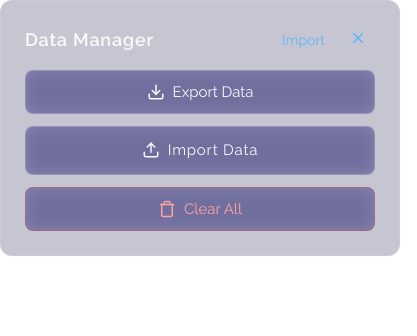
DataManager › exports data successfully
What coordinates should you click on to do the following:
click the button "Export Data"
I would click on:
 (200, 92)
Its box is [25,70,375,114].
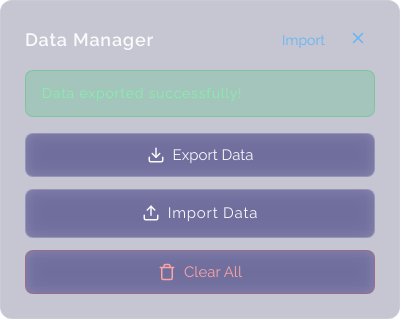
Check: the text "Data exported successfully!" is shown, box [25,70,375,117]
